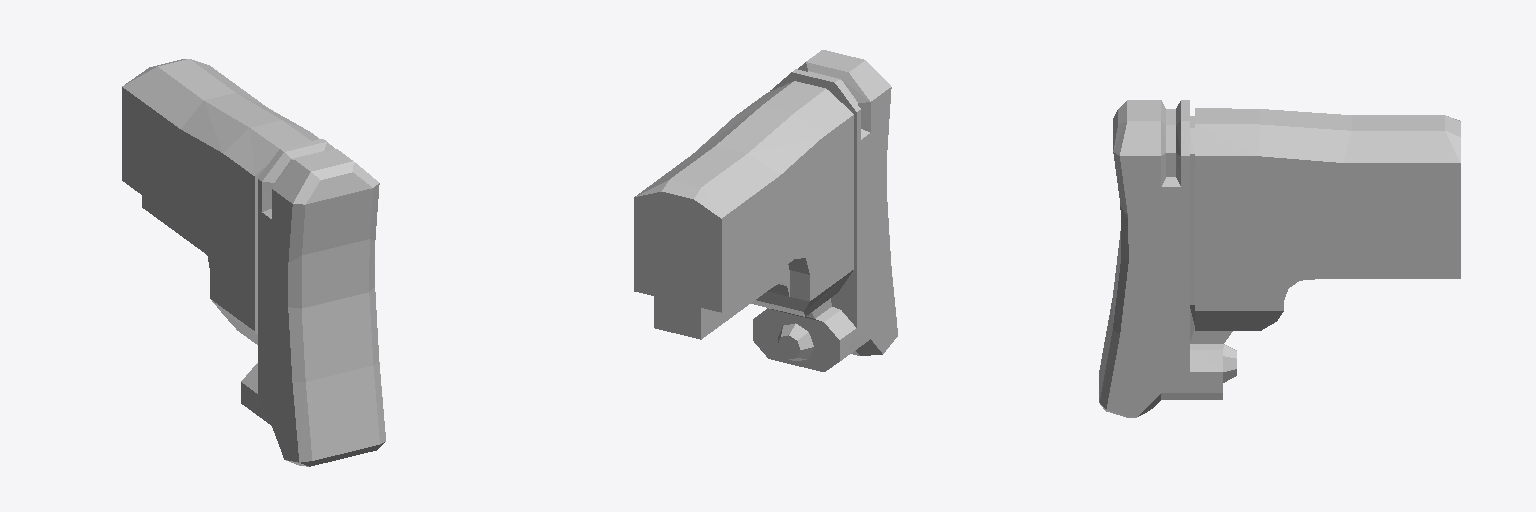
File: stock5.obj
The picture shows the model from 3 angles: view 1: azimuth 30°, elevation 25°; view 2: azimuth 150°, elevation 25°; view 3: azimuth 270°, elevation 25°; orthographic projection.
Visible parts, largest first — view 1: stock5; view 2: stock5; view 3: stock5.
Part boxes in pixels (left/top/right/bottom): stock5: left=122, top=59, right=385, bottom=466; stock5: left=634, top=50, right=897, bottom=371; stock5: left=1099, top=100, right=1460, bottom=417.
Bounding box in the file's own units: 4.7 × 14.91 × 16.77.